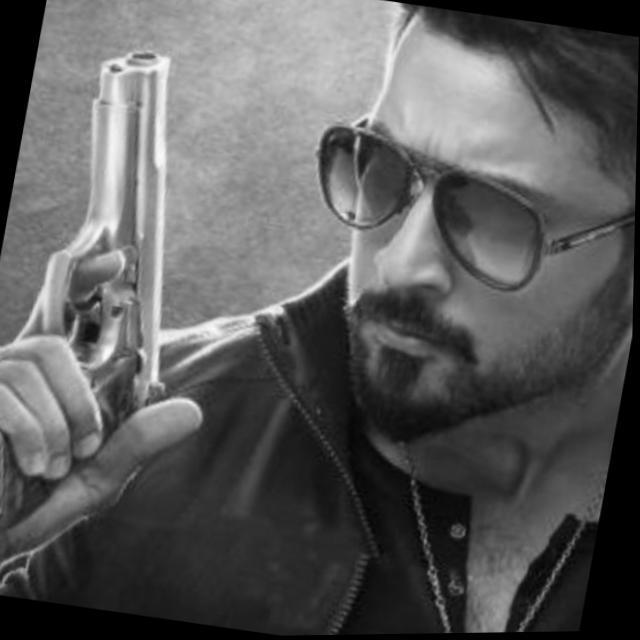weapon: (0, 24, 237, 569)
